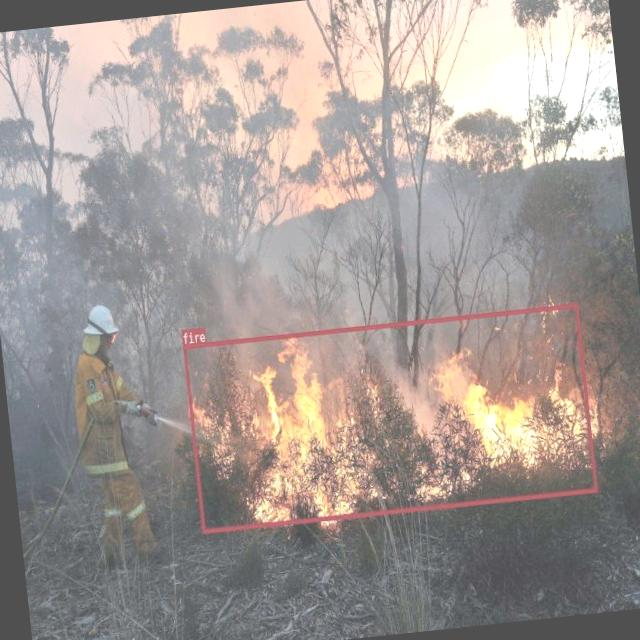fire: (182, 303, 596, 532)
